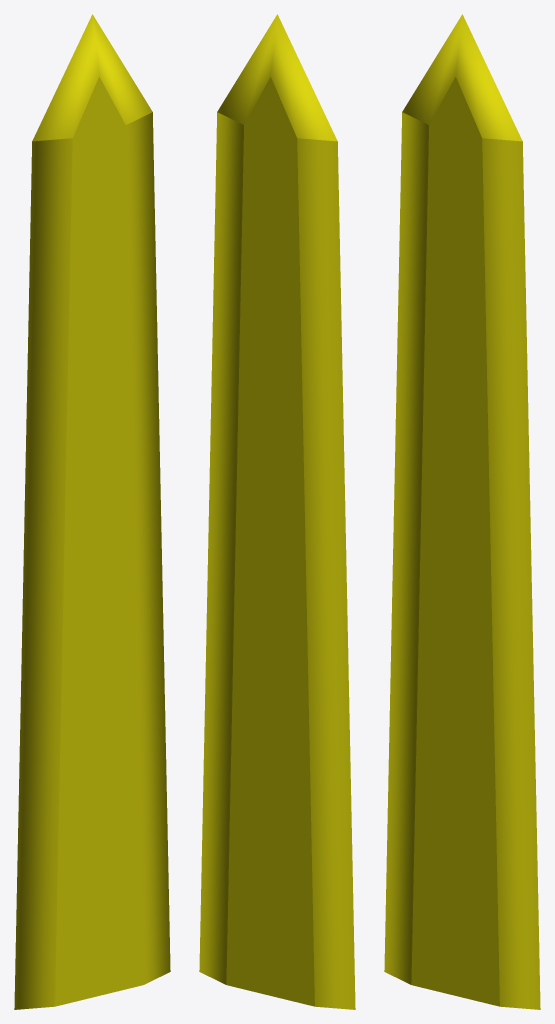
The model's file is dragonslayerMesh.FBX.
The picture shows the model from 3 angles, left to right: view 1: azimuth 30°, elevation 25°; view 2: azimuth 150°, elevation 25°; view 3: azimuth 330°, elevation 25°; orthographic projection.
Parts seen in each view (by area): view 1: Box001; view 2: Box001; view 3: Box001.
Part boxes in pixels (<box>): Box001: <box>14,14,170,1009</box>; Box001: <box>199,14,355,1009</box>; Box001: <box>384,14,540,1009</box>.
Bounding box in the file's own units: 26.46 × 158 × 4.
